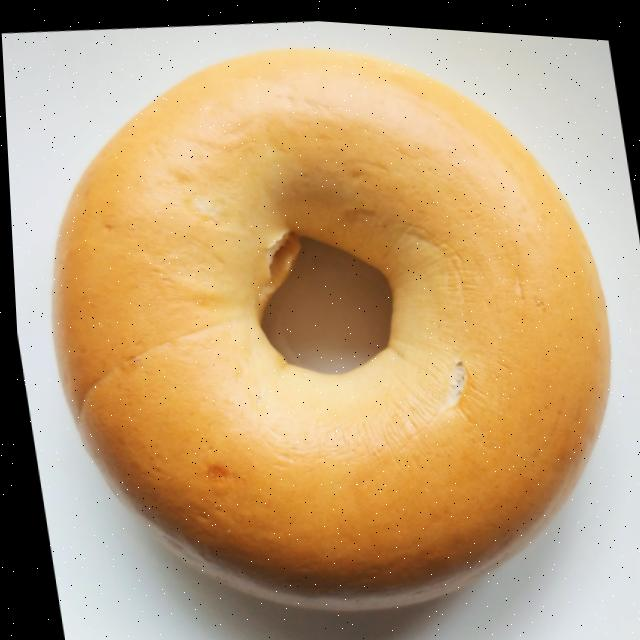Bagel: (49, 43, 605, 604)
